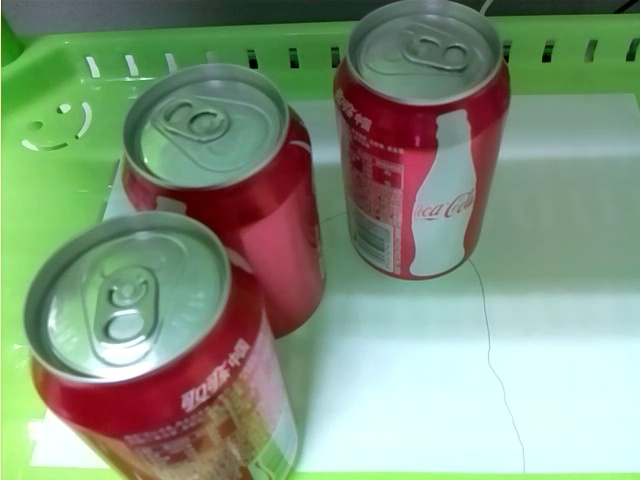cocacola: (20, 211, 301, 480), (117, 64, 324, 336), (332, 2, 511, 280)
